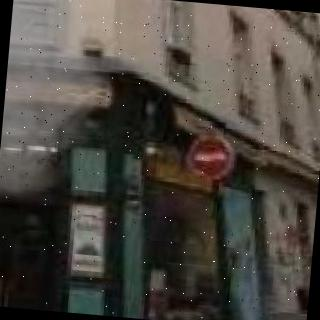smoke: (0, 0, 142, 203)
